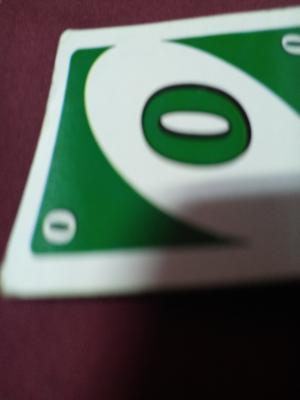green: (275, 20, 300, 75)
num_0: (135, 58, 267, 193), (32, 194, 97, 257)
